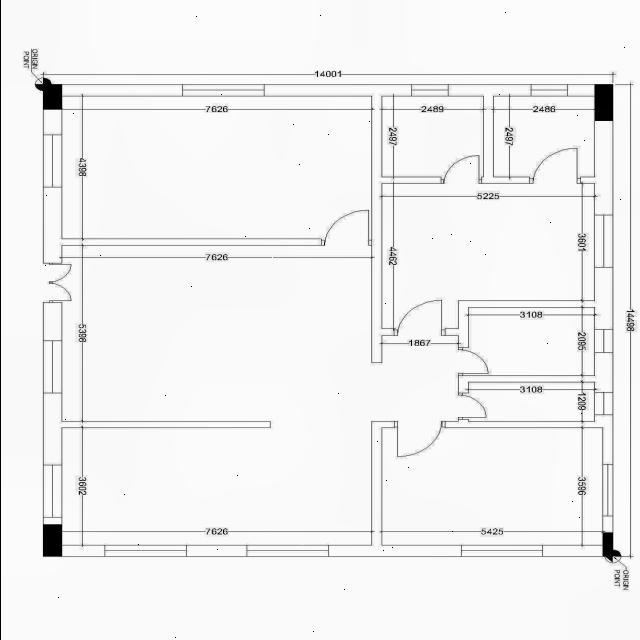Column: (594, 84, 612, 121), (42, 524, 62, 556), (42, 84, 62, 110), (602, 532, 612, 556)
Door: (319, 210, 372, 246), (528, 148, 580, 184), (392, 300, 444, 336), (394, 421, 444, 457), (440, 154, 481, 184), (457, 348, 489, 376), (457, 392, 486, 420)
Double-Door: (42, 263, 71, 303)
Window: (42, 464, 62, 518), (42, 135, 62, 187), (42, 341, 62, 393), (245, 545, 328, 557), (182, 84, 264, 96), (460, 545, 542, 557), (104, 545, 185, 557), (594, 215, 612, 267), (602, 464, 612, 516), (410, 84, 448, 96), (530, 84, 567, 96), (594, 329, 612, 353), (594, 392, 612, 415)
